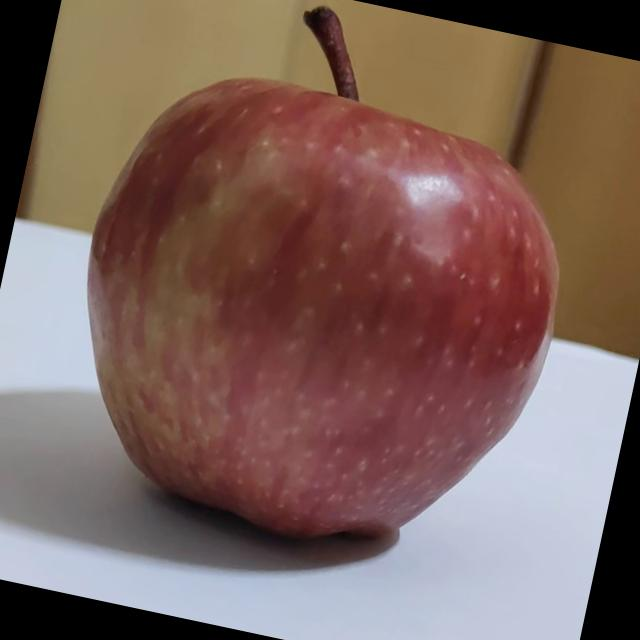apple: (33, 0, 614, 594)
